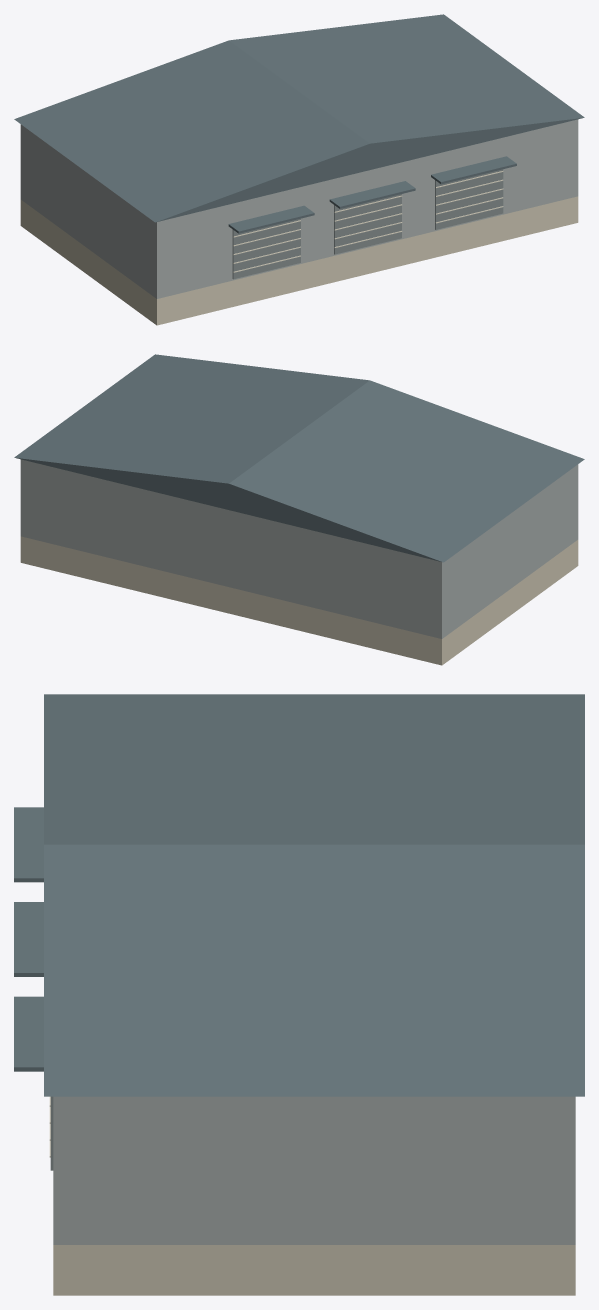
The model's file is dock-shed-3.glb.
3 views of the same model, one above another, from view 1: azimuth 30°, elevation 25°; view 2: azimuth 150°, elevation 25°; view 3: azimuth 270°, elevation 25° (orthographic). The views are drawn at different scales.
Size of the model in its own units: 25.5 by 7.5 by 15.3.
